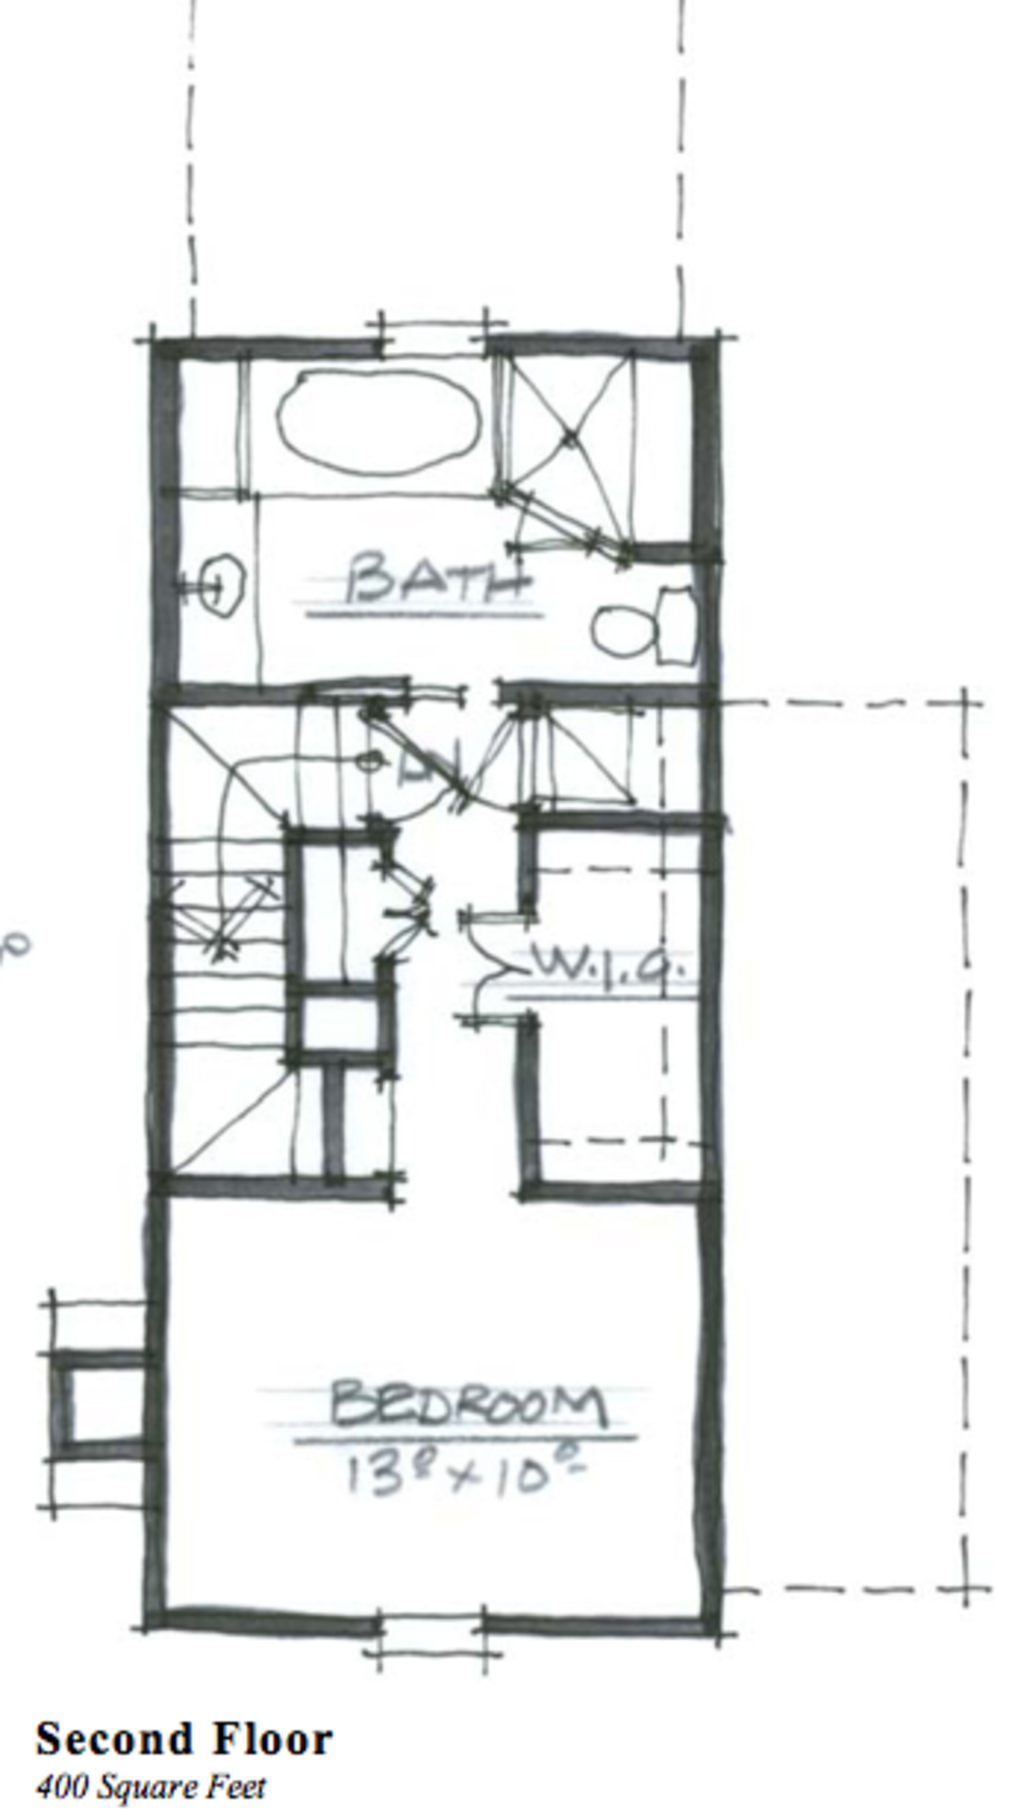bedroom on the second floor has a bathroom with saperate bathing area and tub an: (138, 309, 745, 1668)
